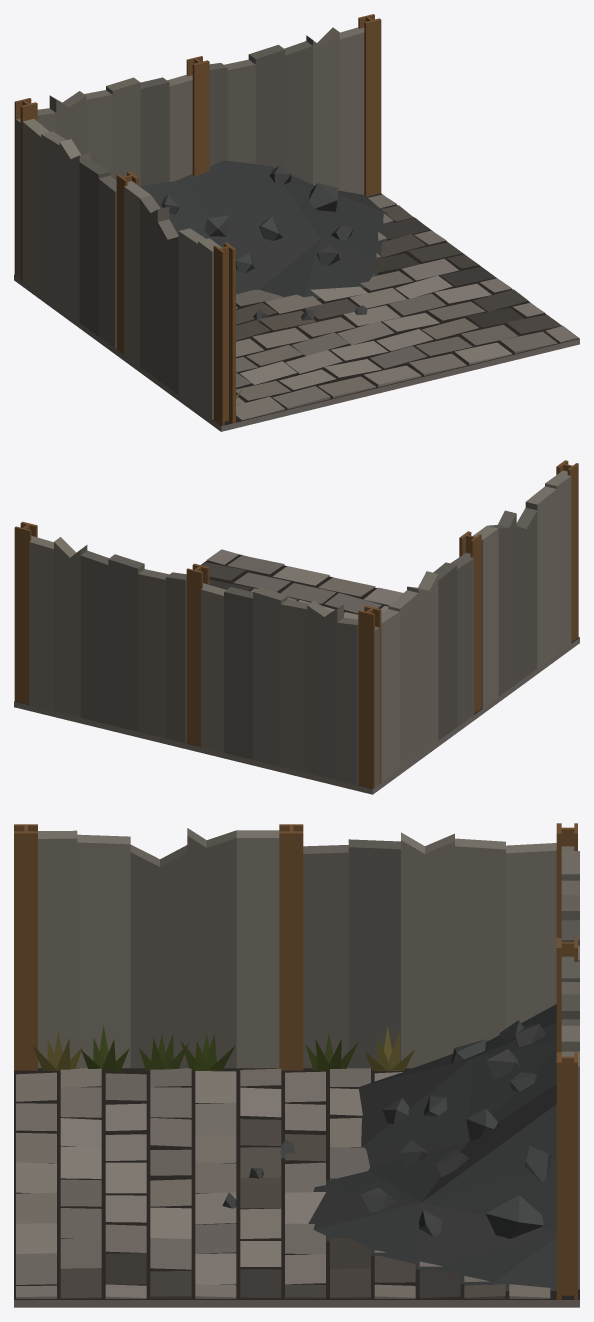
File: coal-merchant-s-bin-c79aea.glb
The picture shows the model from 3 angles, top to bottom: view 1: azimuth 30°, elevation 25°; view 2: azimuth 150°, elevation 25°; view 3: azimuth 270°, elevation 25°; orthographic projection. The views are drawn at different scales.
Parts seen in each view (by area): view 1: bay, coal; view 2: bay; view 3: bay, coal, weed-2, weed-3, weed-4, weed-1, weed-5, weed-0.
Part boxes in pixels (box(x1,y1,x2,y2)): bay: box(14, 14, 579, 431); coal: box(161, 165, 367, 321); bay: box(14, 460, 579, 794); bay: box(14, 823, 579, 1307); coal: box(222, 1020, 551, 1238); weed-2: box(364, 1026, 414, 1070); weed-3: box(180, 1033, 235, 1070); weed-4: box(305, 1033, 358, 1070); weed-1: box(139, 1034, 188, 1070); weed-5: box(32, 1031, 82, 1070); weed-0: box(81, 1025, 129, 1070).
Size of the model in its own units: 4 by 1.91 by 4.
